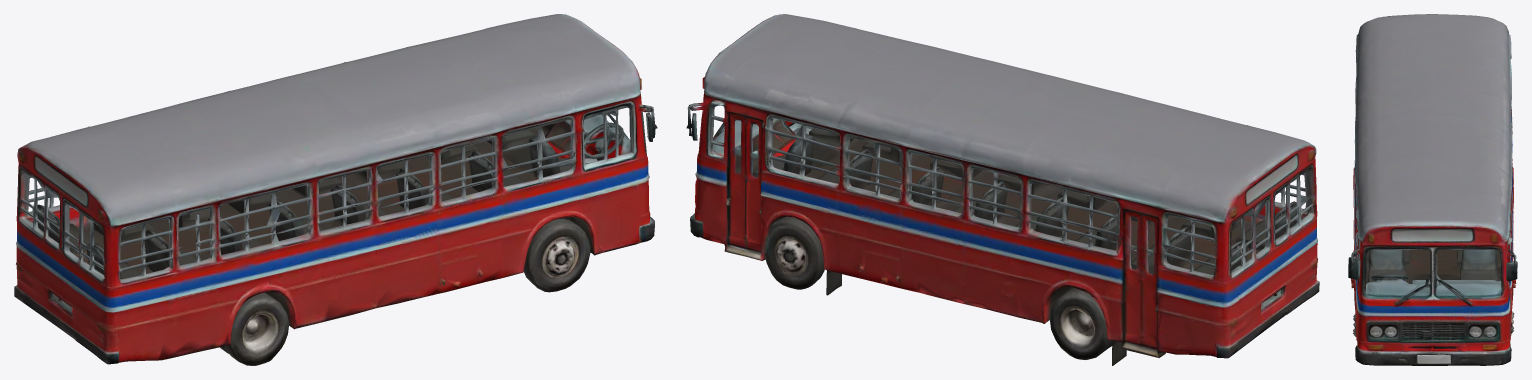
The model's file is sltb.glb.
The picture shows the model from 3 angles, left to right: view 1: azimuth 30°, elevation 25°; view 2: azimuth 150°, elevation 25°; view 3: azimuth 270°, elevation 25°; orthographic projection. The views are drawn at different scales.
Parts seen in each view (by area): view 1: tripo_node_790443ac-0242-469d-84a1-d87729b85045; view 2: tripo_node_790443ac-0242-469d-84a1-d87729b85045; view 3: tripo_node_790443ac-0242-469d-84a1-d87729b85045.
Boxes of the visible parts, x1=… form: tripo_node_790443ac-0242-469d-84a1-d87729b85045: x1=14, y1=14, x2=657, y2=365; tripo_node_790443ac-0242-469d-84a1-d87729b85045: x1=686, y1=14, x2=1319, y2=365; tripo_node_790443ac-0242-469d-84a1-d87729b85045: x1=1348, y1=14, x2=1517, y2=365.
Size of the model in its own units: 1 by 0.3538 by 0.3287.
Materials: 1 (1 with a texture image).
